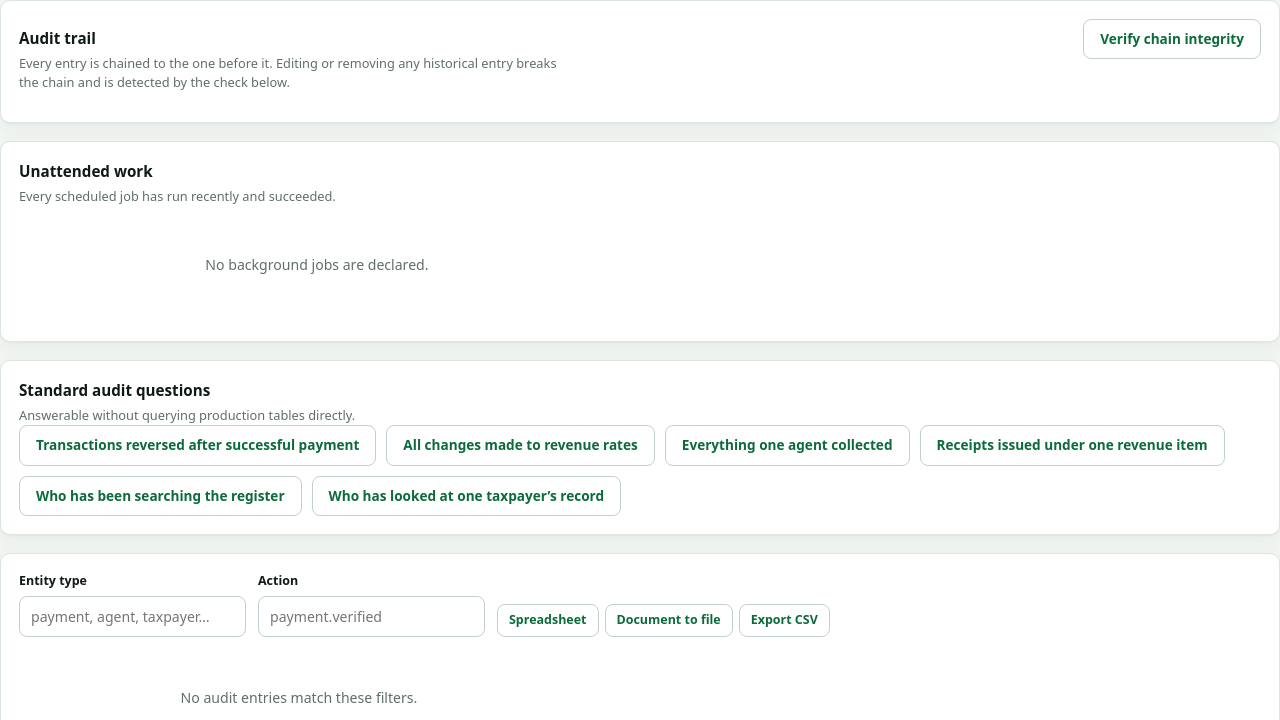
it: the standard audit questions are written in words › heads the answer with the question, not its key
The image size is (1280, 720).
Expected: the heading "Unattended work" is shown, [19,161,153,181]
Note: A question with no parameter runs as soon as it is pressed.
What coordinates should you click on to do the following:
click the button "All changes made to revenue rates"
I would click on:
 (521, 446)
Its box is [386,425,655,466].
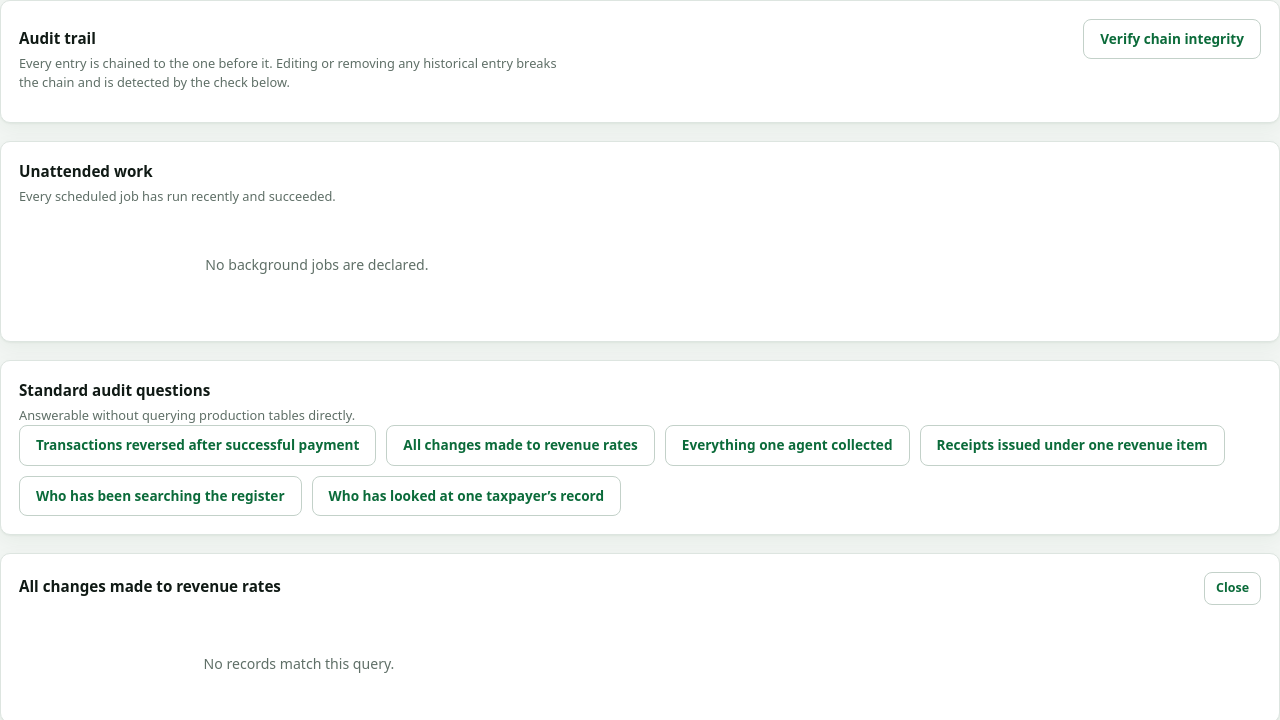
Expected: the heading "All changes made to revenue rates" is shown, [19,575,281,598]
